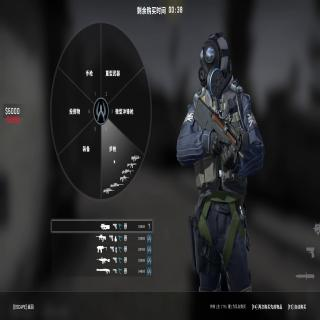CT-Body: (177, 31, 264, 290)
CT-Head: (197, 32, 229, 92)
